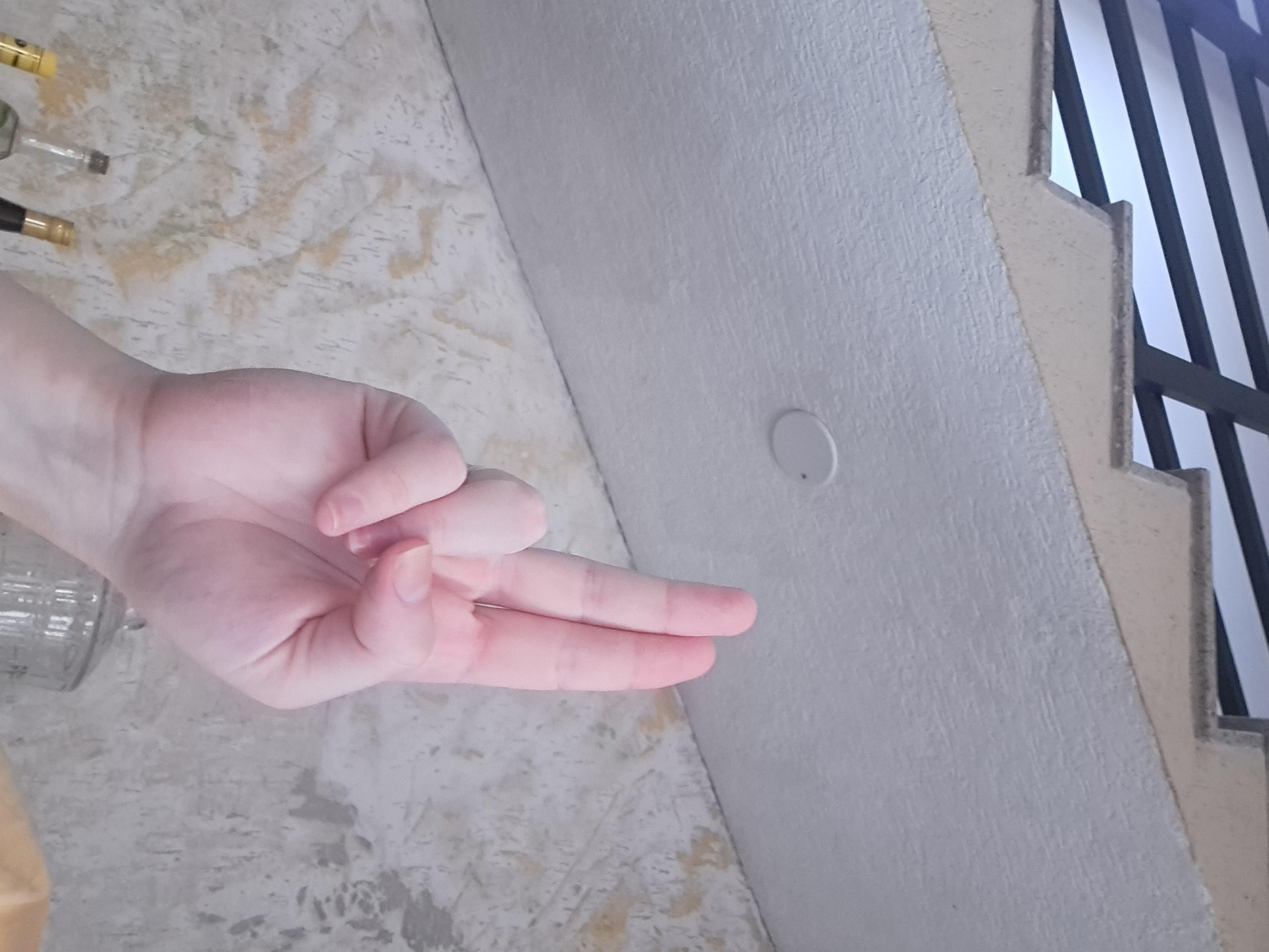U: (384, 362, 975, 869)
